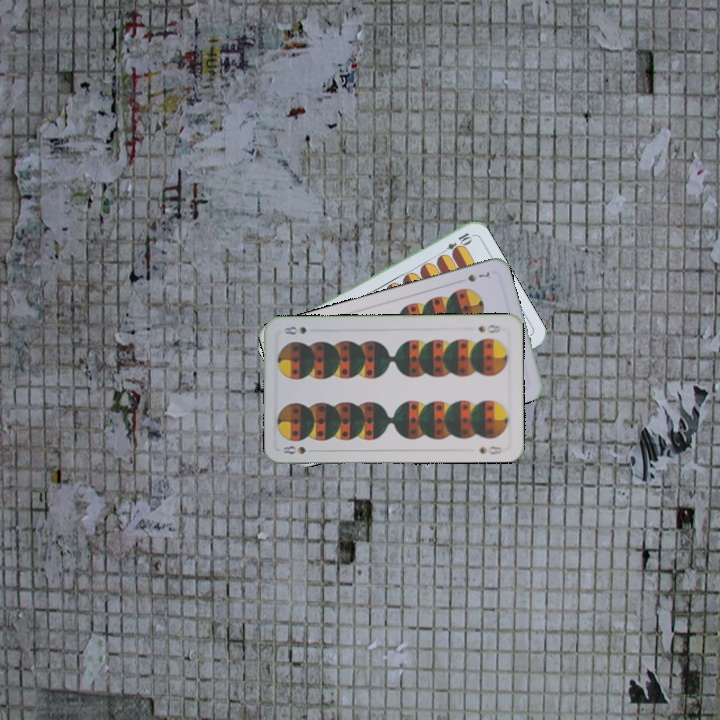E10: (437, 228, 474, 258)
S7: (464, 268, 492, 284)
S8: (279, 442, 308, 457), (474, 321, 503, 335)
